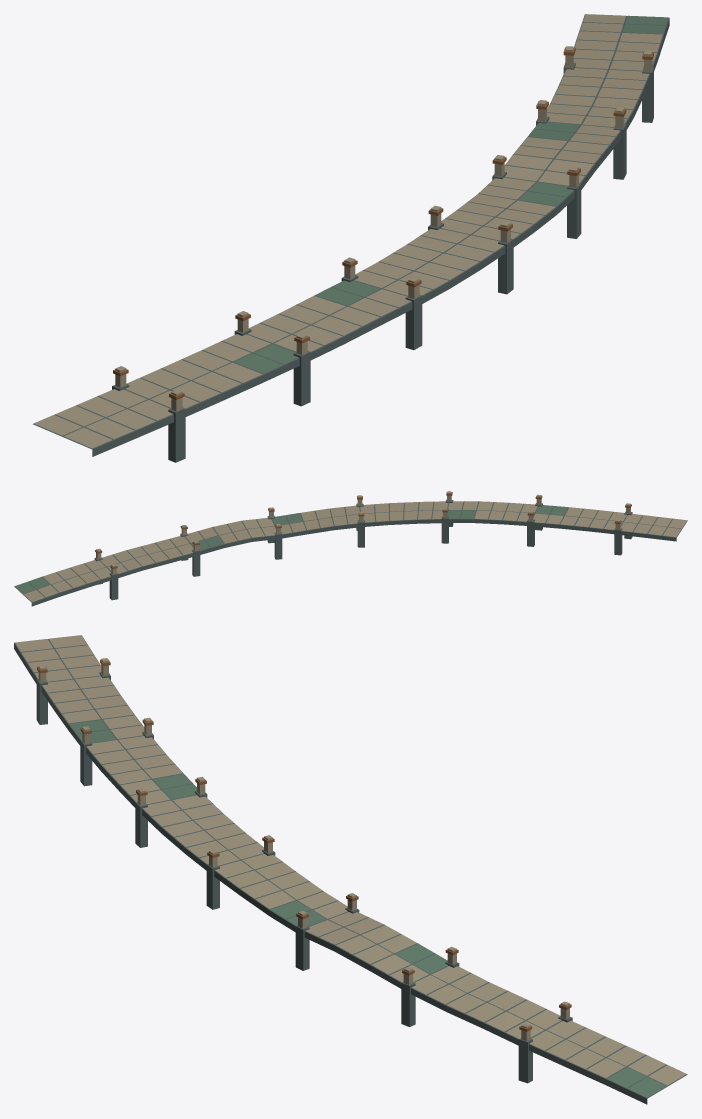
Rendered from 3_pilgrims_cross_0.glb.
3 renders of one model, top to bottom at view 1: azimuth 30°, elevation 25°; view 2: azimuth 150°, elevation 25°; view 3: azimuth 270°, elevation 25°, orthographic. The views are drawn at different scales.
Visible parts, largest first — view 1: Detail_9_11, Detail_10_11, Detail_9_12, Deck_9_11-col, Deck_10_11-col, Deck_9_12-col; view 2: Detail_9_11, Detail_10_11, Detail_9_12, Deck_9_11-col, Deck_10_11-col, Deck_9_12-col; view 3: Detail_9_11, Detail_10_11, Detail_9_12, Deck_9_11-col, Deck_10_11-col, Deck_9_12-col.
Part boxes in pixels (x1,y1,x2,y2): Detail_9_11: [77, 155, 581, 416]; Detail_10_11: [506, 14, 669, 189]; Detail_9_12: [34, 372, 241, 462]; Deck_9_11-col: [161, 179, 574, 393]; Deck_10_11-col: [504, 14, 669, 186]; Deck_9_12-col: [32, 377, 221, 449]; Detail_9_11: [252, 491, 676, 559]; Detail_10_11: [15, 518, 274, 606]; Detail_9_12: [580, 503, 686, 539]; Deck_9_11-col: [271, 501, 598, 534]; Deck_10_11-col: [14, 519, 275, 602]; Deck_9_12-col: [589, 510, 687, 537]; Detail_9_11: [53, 655, 367, 970]; Detail_10_11: [304, 917, 686, 1104]; Detail_9_12: [14, 635, 93, 724]; Deck_9_11-col: [54, 696, 347, 926]; Deck_10_11-col: [305, 917, 687, 1098]; Deck_9_12-col: [14, 635, 120, 703].
Size of the model in its own units: 36.95 by 4.67 by 26.73.
